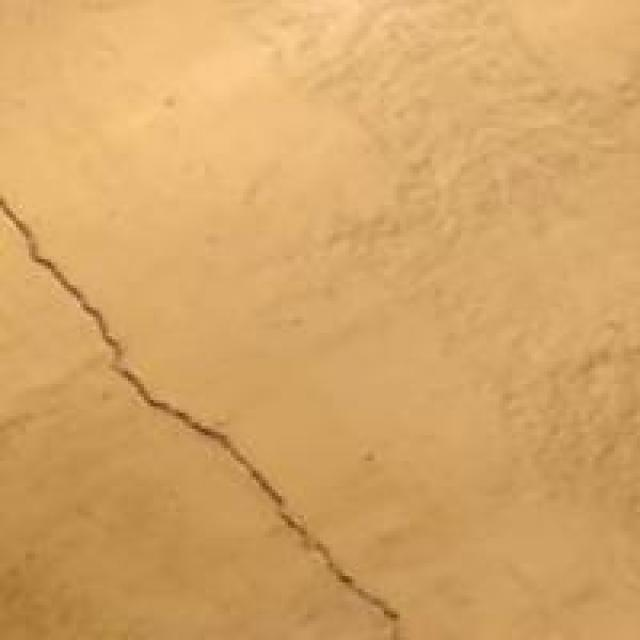Crack: (0, 134, 445, 637)
